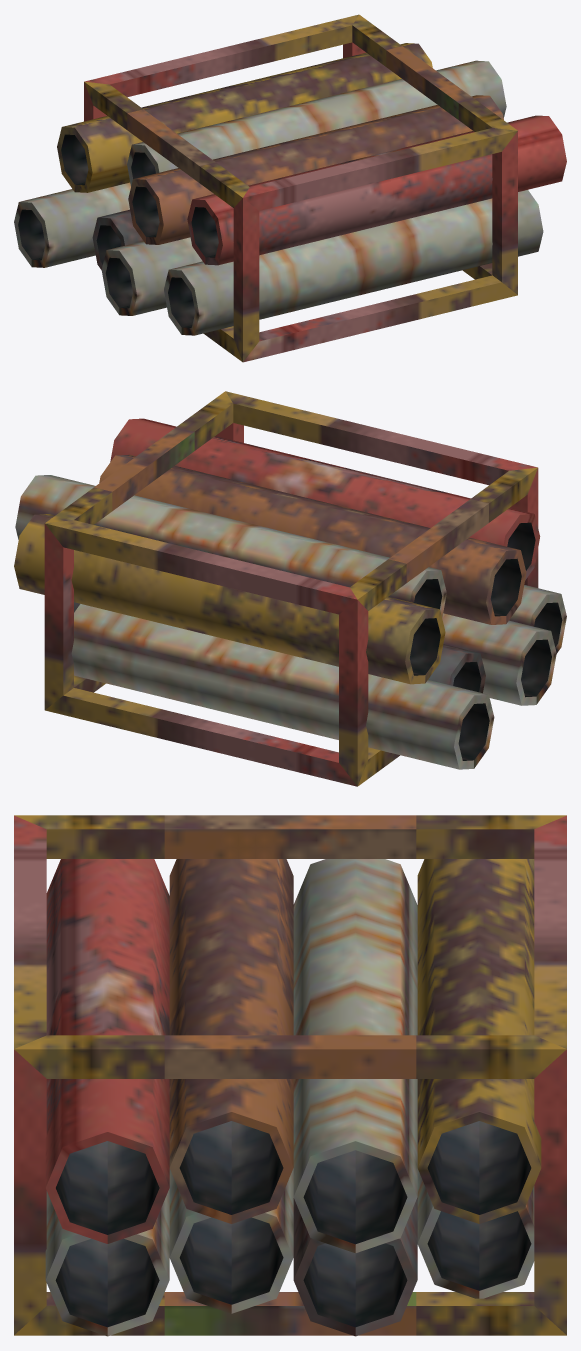
File: SM_MULTIPIPES_03.fbx
The picture shows the model from 3 angles, top to bottom: view 1: azimuth 30°, elevation 25°; view 2: azimuth 150°, elevation 25°; view 3: azimuth 270°, elevation 25°; orthographic projection. The views are drawn at different scales.
Visible parts, largest first — view 1: SM_MULTIPIPES_03; view 2: SM_MULTIPIPES_03; view 3: SM_MULTIPIPES_03.
Part boxes in pixels (left/top/right/bottom): SM_MULTIPIPES_03: left=14, top=14, right=566, bottom=362; SM_MULTIPIPES_03: left=14, top=391, right=566, bottom=786; SM_MULTIPIPES_03: left=14, top=815, right=566, bottom=1336.
Bounding box in the file's own units: 3.06 × 1.14 × 2.
